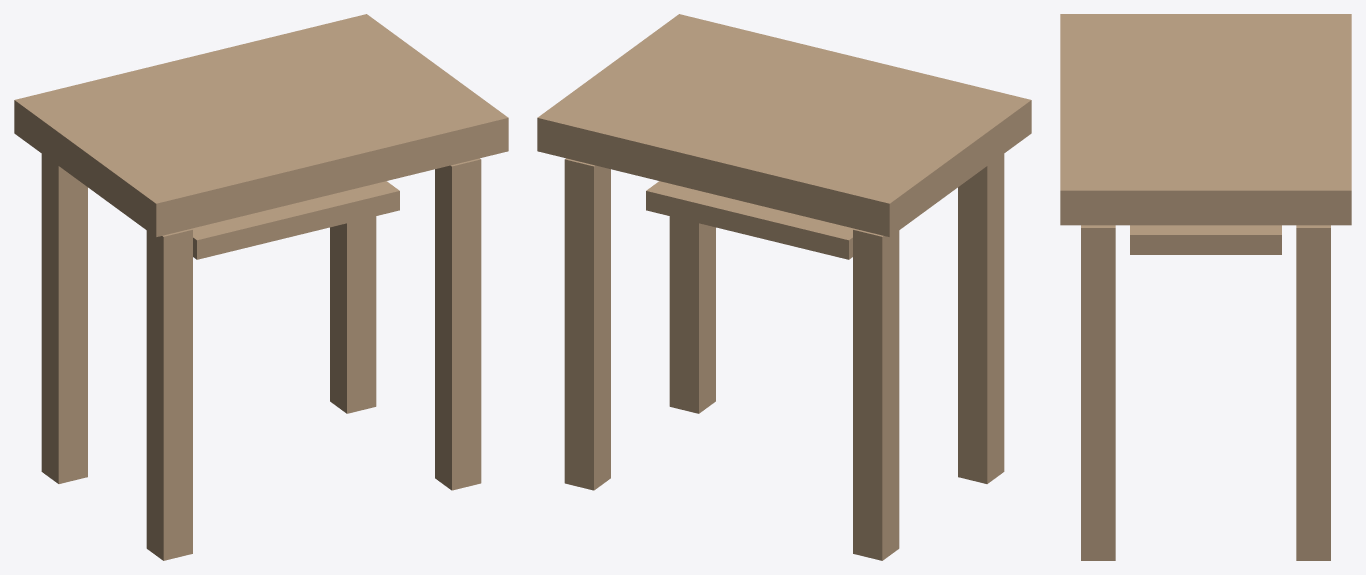
Rendered from side-table.glb.
3 renders of one model, left to right at view 1: azimuth 30°, elevation 25°; view 2: azimuth 150°, elevation 25°; view 3: azimuth 270°, elevation 25°, orthographic. The views are drawn at different scales.
Visible parts, largest first — view 1: Side Table; view 2: Side Table; view 3: Side Table.
Boxes of the visible parts, bbox=[...] form: Side Table: bbox=[14, 14, 508, 560]; Side Table: bbox=[537, 14, 1031, 560]; Side Table: bbox=[1060, 14, 1351, 560].
Bounding box in the file's own units: 0.66 × 0.66 × 0.46.
